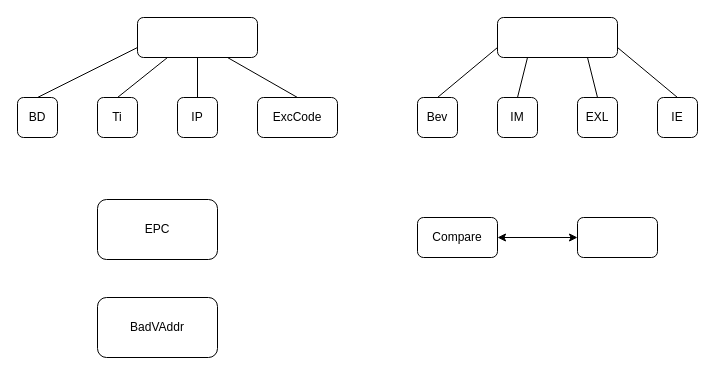
Some shapes in this 715 by 375 pixel diagram are drawn without their labels. Here are the shapes that lost their labels. From the top down, the centre of each, then its label:
At point (197, 37): "Cause".
At point (557, 37): "status".
At point (617, 237): "Count".
